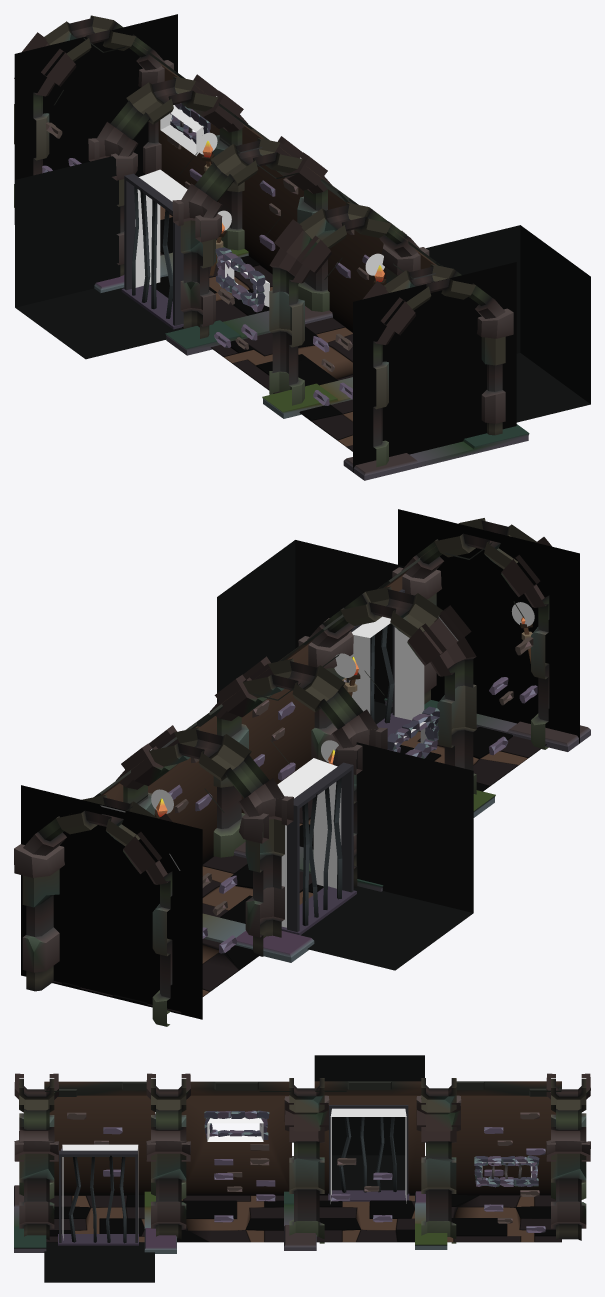
The model's file is Transition Hallway.fbx.
3 renders of one model, top to bottom at view 1: azimuth 30°, elevation 25°; view 2: azimuth 150°, elevation 25°; view 3: azimuth 270°, elevation 25°, orthographic. The views are drawn at different scales.
Parts seen in each view (by area): view 1: Hallway; view 2: Hallway; view 3: Hallway.
Part boxes in pixels (box(x1,y1,x2,y2)): Hallway: box(14, 14, 590, 480); Hallway: box(14, 509, 590, 1026); Hallway: box(14, 1055, 590, 1282).
Size of the model in its own units: 9.99 by 5.21 by 19.16.
